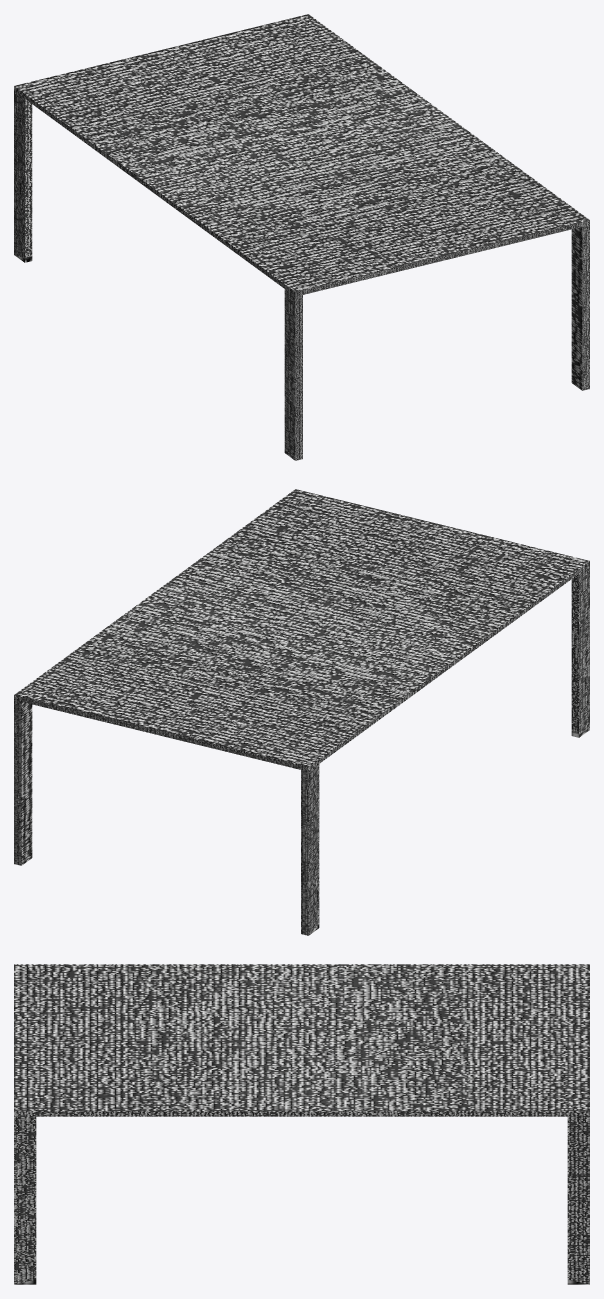
The model's file is MetalStol.fbx.
The picture shows the model from 3 angles, top to bottom: view 1: azimuth 30°, elevation 25°; view 2: azimuth 150°, elevation 25°; view 3: azimuth 270°, elevation 25°; orthographic projection. The views are drawn at different scales.
Visible parts, largest first — view 1: MetalStol; view 2: MetalStol; view 3: MetalStol.
Part boxes in pixels (x1=…): MetalStol: x1=14, y1=14, x2=589, y2=460; MetalStol: x1=14, y1=489, x2=589, y2=935; MetalStol: x1=14, y1=964, x2=589, y2=1284.
Size of the model in its own units: 510 by 280 by 844.
